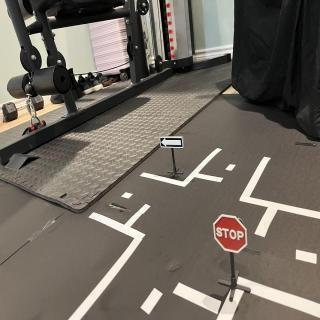sign_oneway_left: (160, 136, 186, 151)
sign_stop: (213, 213, 249, 256)
